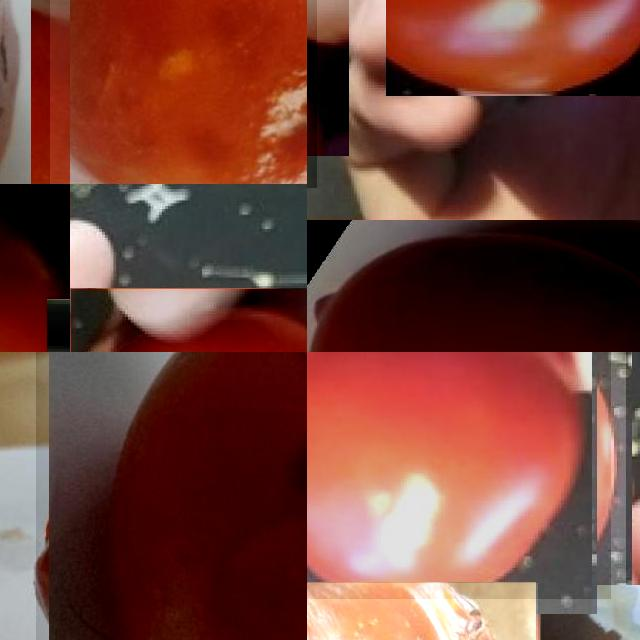0: (307, 352, 611, 599), (307, 220, 640, 352), (386, 0, 640, 96)
Fresh Tomato: (70, 288, 307, 352), (0, 184, 70, 352)
Rotten Tomato: (36, 352, 307, 640), (70, 0, 307, 184)
